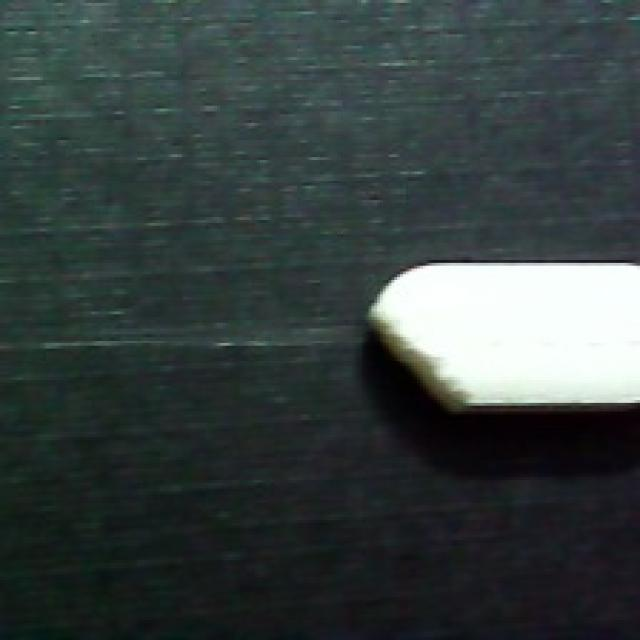defected: (360, 251, 640, 426)
